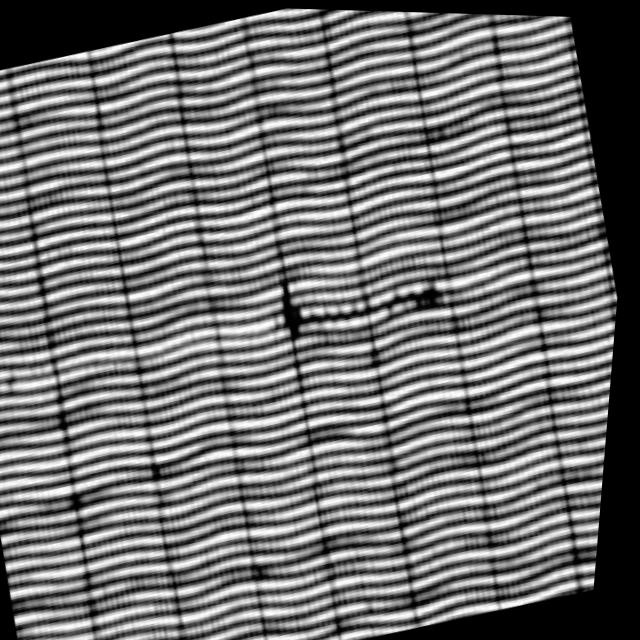Stitch: (258, 228, 471, 380)
